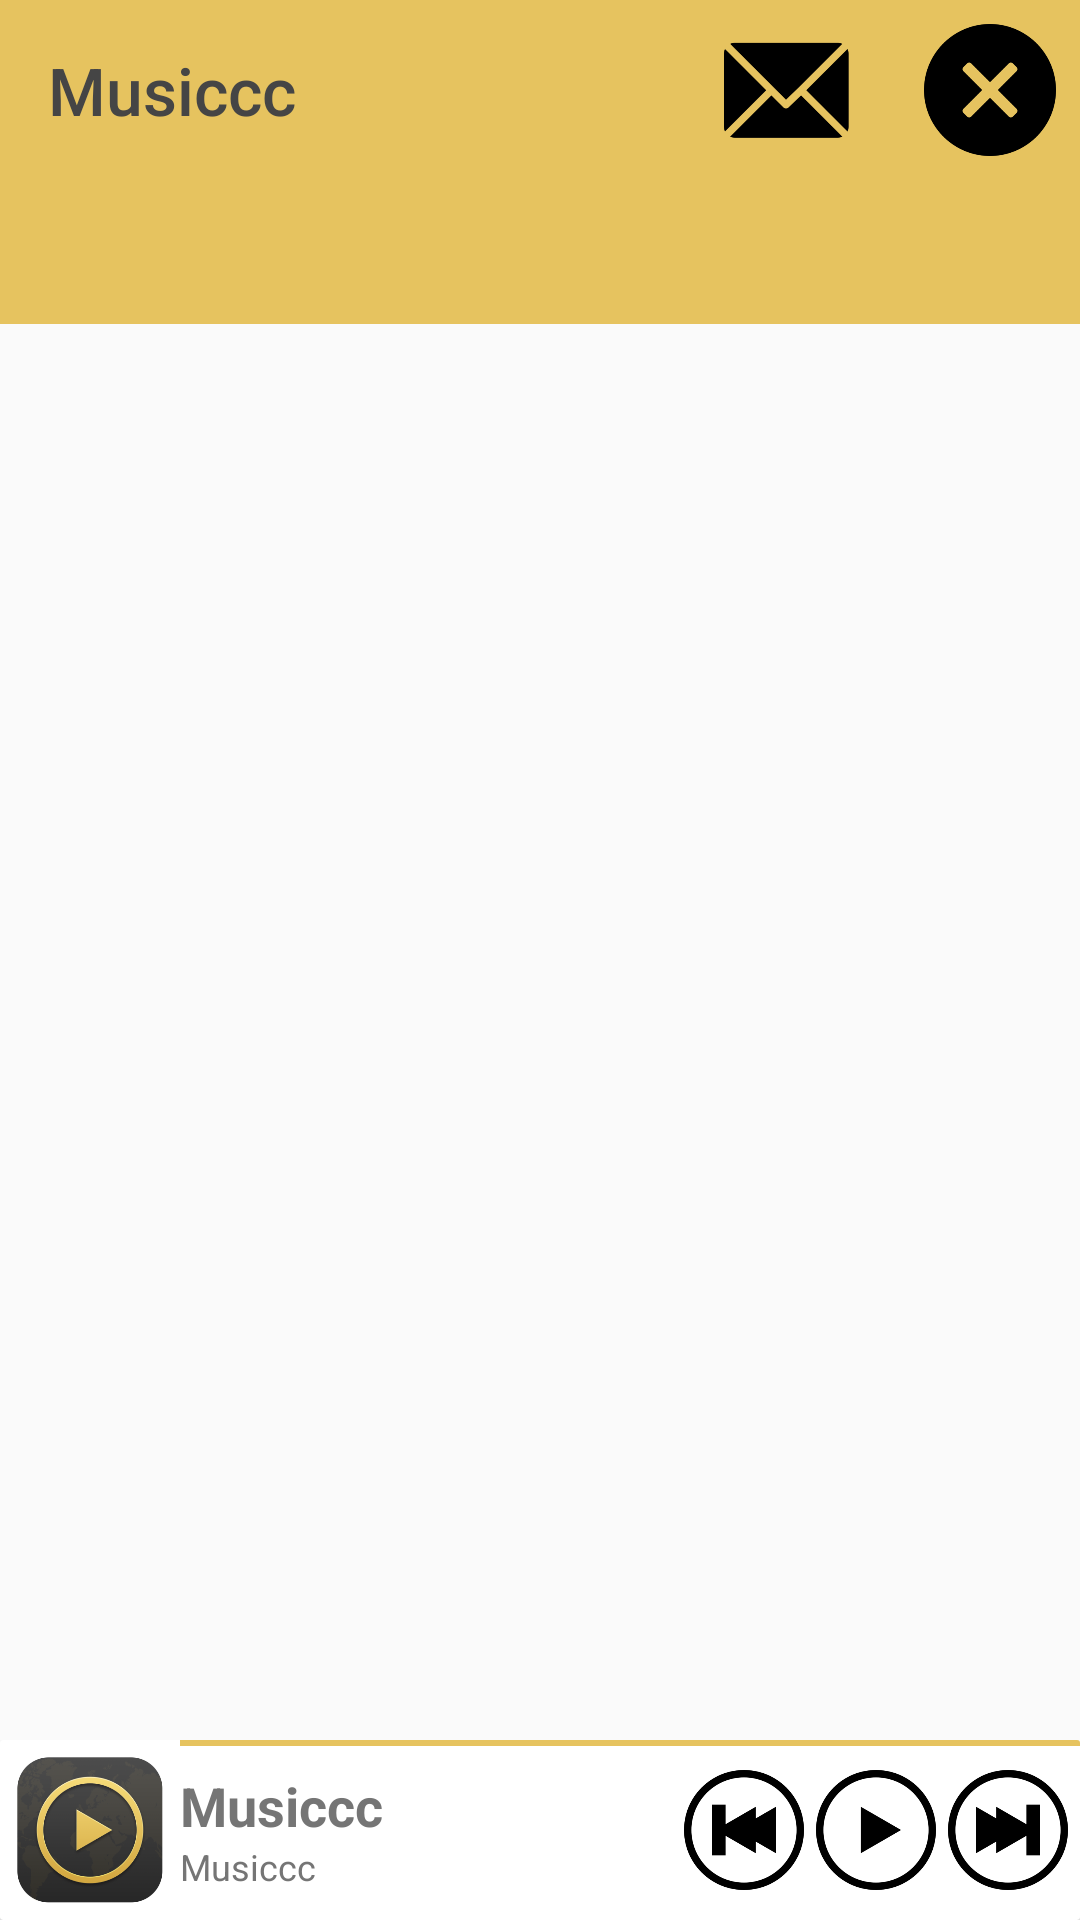

Screen size 1080w x 1920h. Icon name, then its center in pixels as (x=x, y=y):
close: (x=990, y=90)
mail: (x=786, y=90)
next: (x=1008, y=1830)
play: (x=876, y=1830)
previous: (x=744, y=1830)
